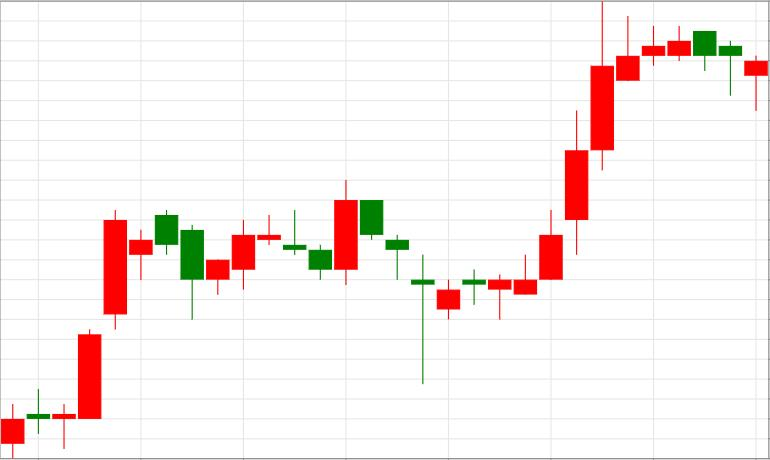three_white_soldiers_rise: (360, 1, 614, 383)
